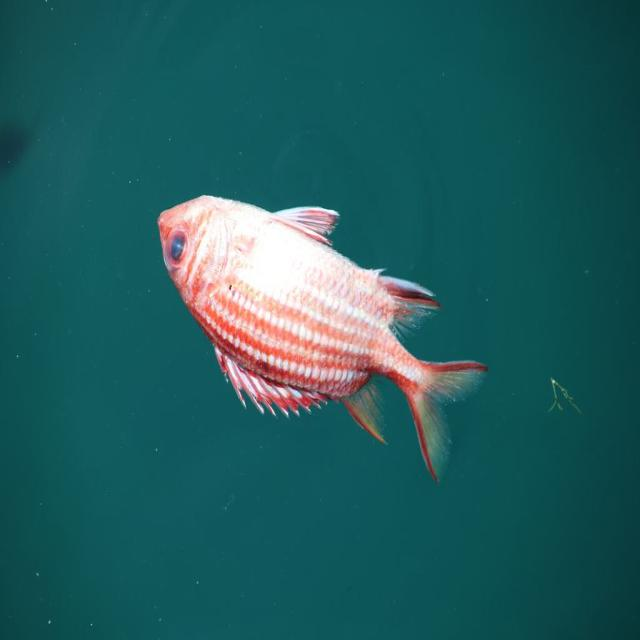Asker Baligi: (156, 191, 488, 484)
